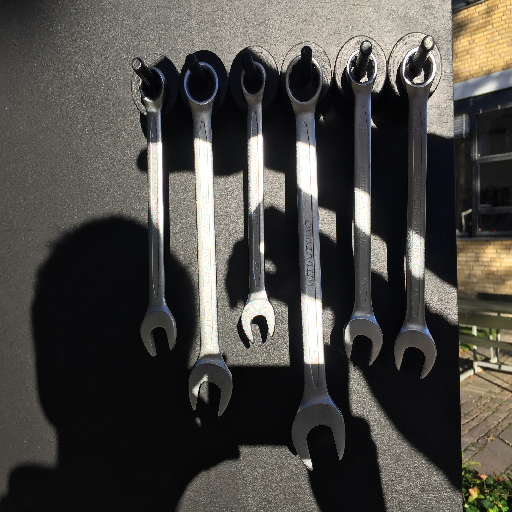bottom: (291, 399, 347, 473), (186, 360, 234, 418), (393, 322, 437, 381), (341, 313, 385, 369), (139, 305, 177, 358), (240, 296, 276, 344)
top: (284, 54, 324, 111), (397, 46, 438, 97), (183, 61, 221, 111), (345, 48, 379, 91), (238, 59, 269, 102), (137, 65, 168, 105)
